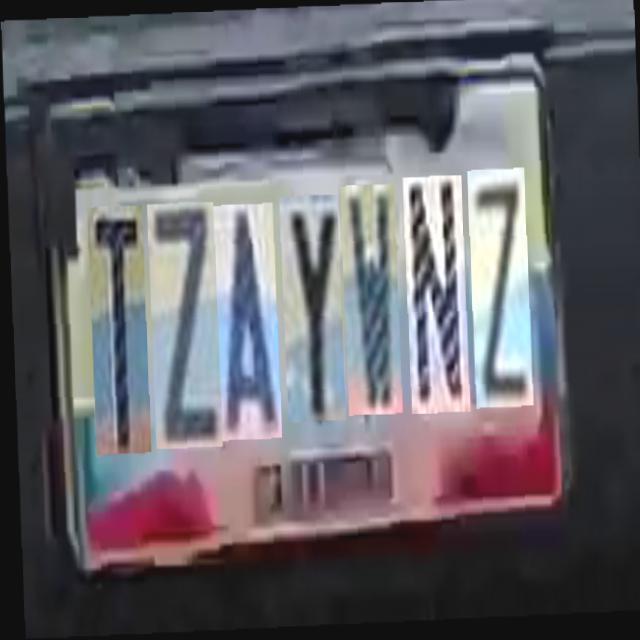A: (210, 192, 276, 428)
N: (400, 172, 464, 408)
T: (84, 190, 144, 438)
W: (337, 178, 396, 408)
Y: (276, 186, 339, 412)
Z: (144, 190, 216, 434), (464, 167, 528, 406)
